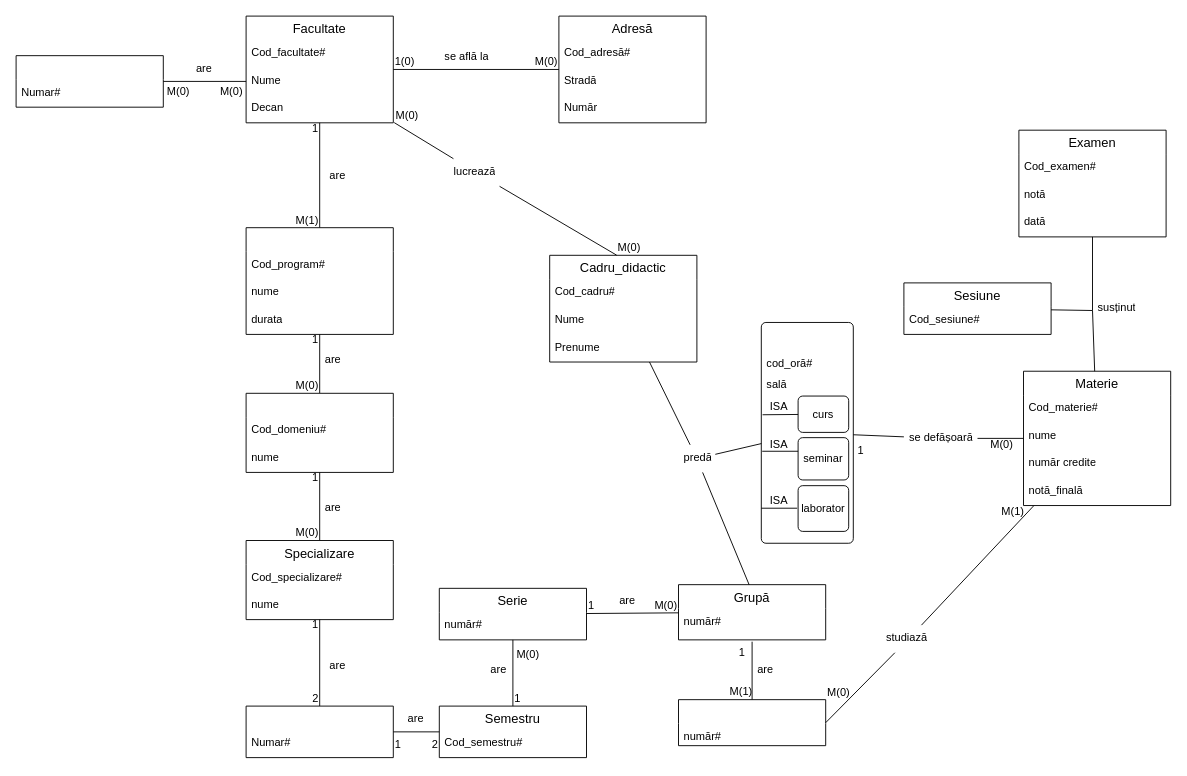
Some shapes in this 1187 by 776 pixel diagram are drawn without their labels. The shapes that lost their labels are listed below. From the top down, each one's box as (x1, y1, x2, y2) in pixels, then its label:
(15, 55, 163, 107): An_universitar
(245, 227, 393, 334): Program_studiu
(760, 322, 853, 351): Oră
(245, 392, 393, 472): Domeniu_studiu
(245, 705, 393, 758): An_studiu
(678, 699, 826, 746): Student
